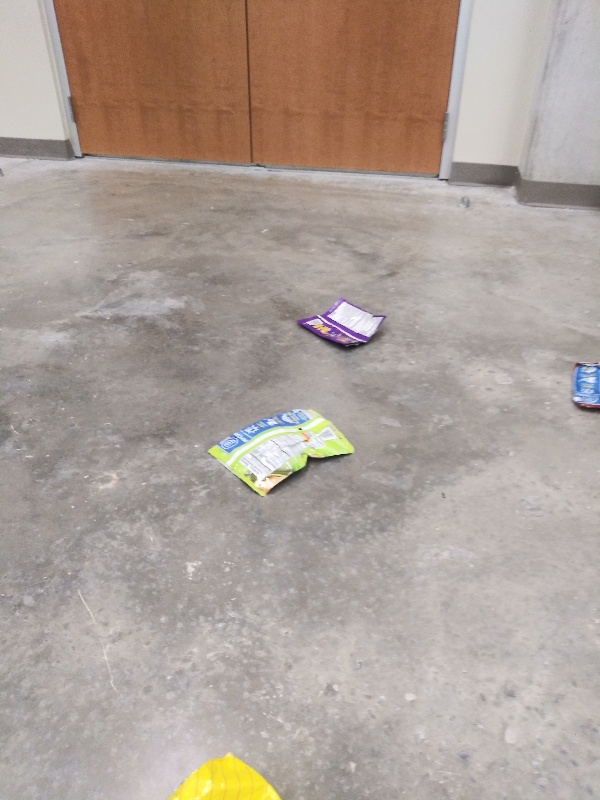bag: (203, 406, 362, 498), (148, 750, 290, 800), (294, 297, 391, 354), (567, 358, 600, 414)
